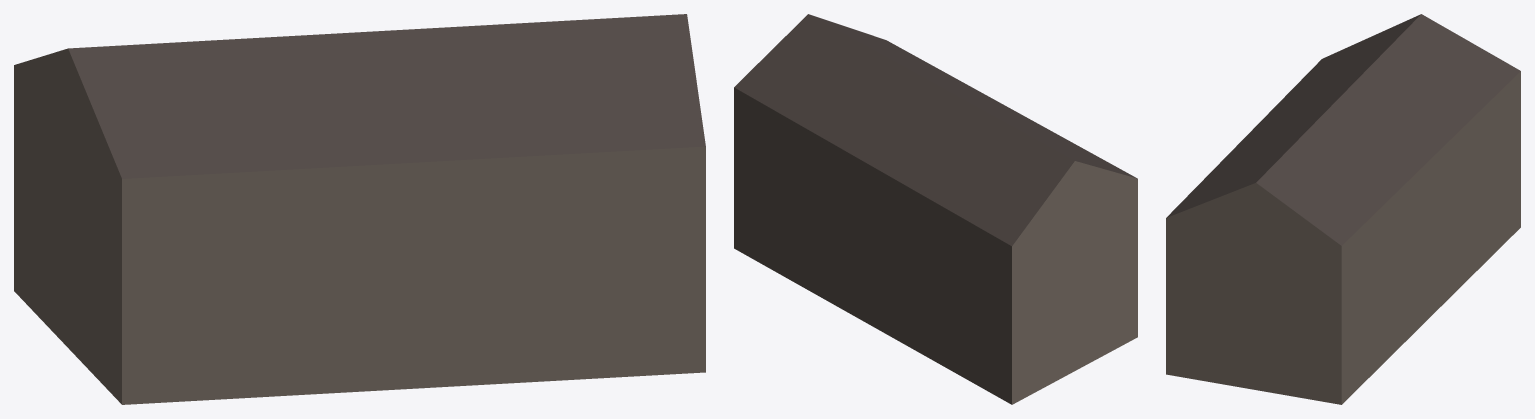
The picture shows the model from 3 angles, left to right: view 1: azimuth 30°, elevation 25°; view 2: azimuth 150°, elevation 25°; view 3: azimuth 270°, elevation 25°; orthographic projection. The views are drawn at different scales.
Parts seen in each view (by area): view 1: HP-w1515071104; view 2: HP-w1515071104; view 3: HP-w1515071104.
Boxes of the visible parts, x1,y1,x2,y2 form: HP-w1515071104: (14,14,705,404); HP-w1515071104: (734,14,1137,404); HP-w1515071104: (1166,14,1520,404).
Bounding box in the file's own units: 15.6 × 7.95 × 12.34.
